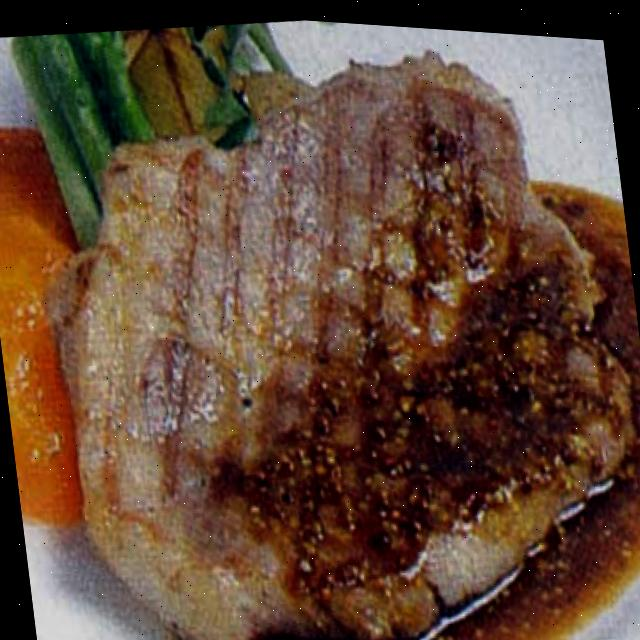牛肉菜式: (24, 1, 640, 640)
